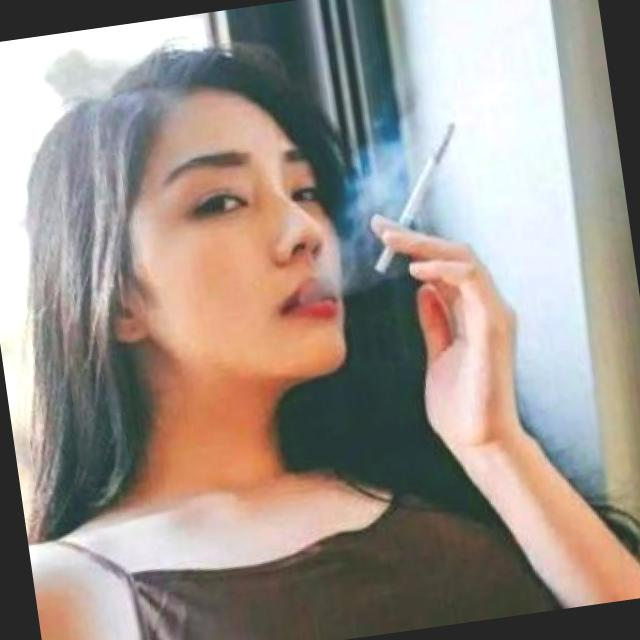cigarette: (350, 117, 478, 283)
